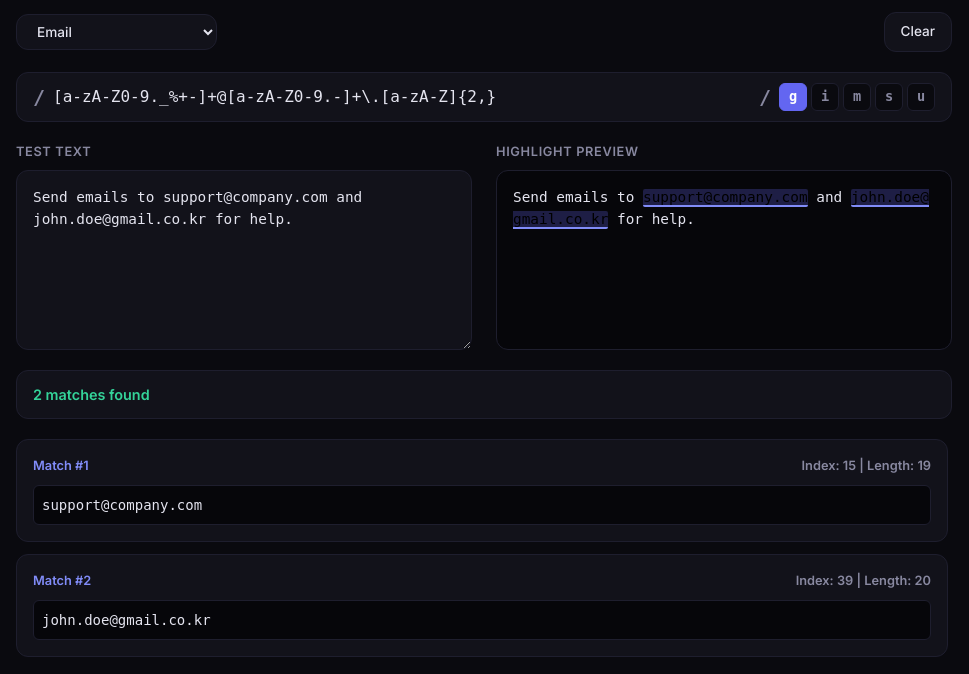
Scenario: RegexTool Component › displays real-time error alert for invalid regex
Replace the text in the field named "Regular expression pattern" with "[invalid(" at {"x": 402, "y": 97}, box [53,83,751,110]
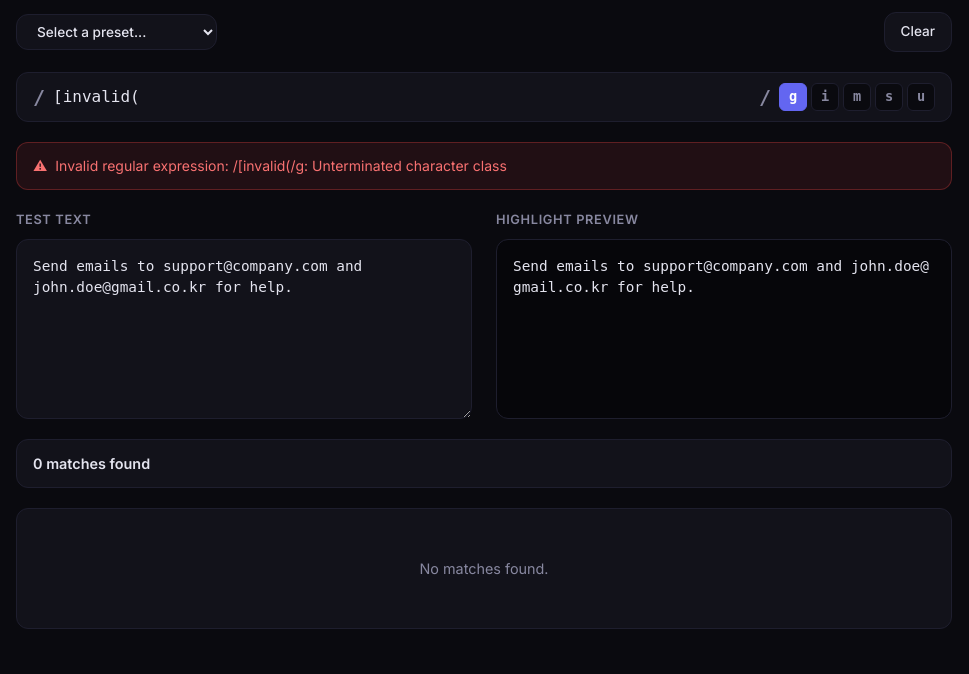
Check: the message "⚠ Invalid regular expression: /[invalid(/g: Unterminated character class" is shown, box [16,142,952,190]
Check: the text "0 matches found" is shown, box [33,452,150,475]
